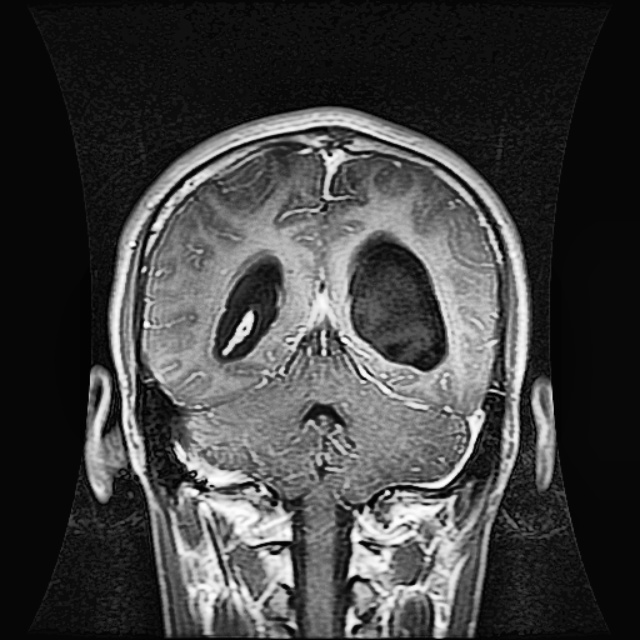Meningioma: (349, 233, 447, 370)
